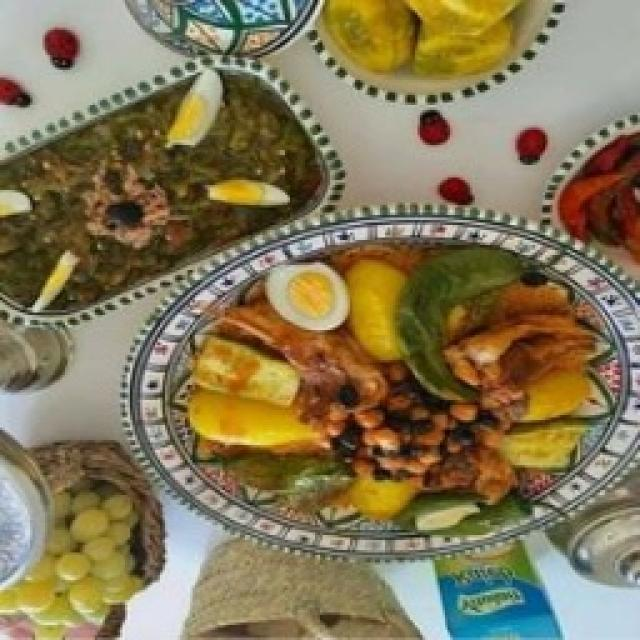Couscous: (170, 245, 615, 545)
Salade mechweya: (0, 68, 325, 320)
